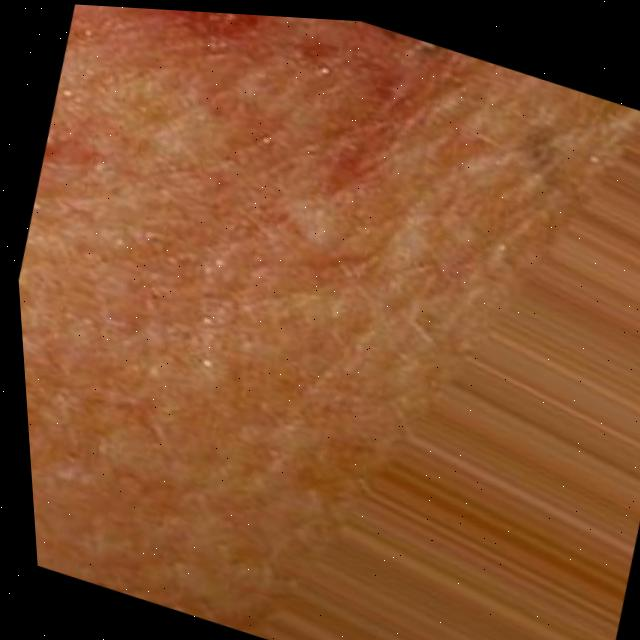Rosacea: (79, 5, 495, 225)
